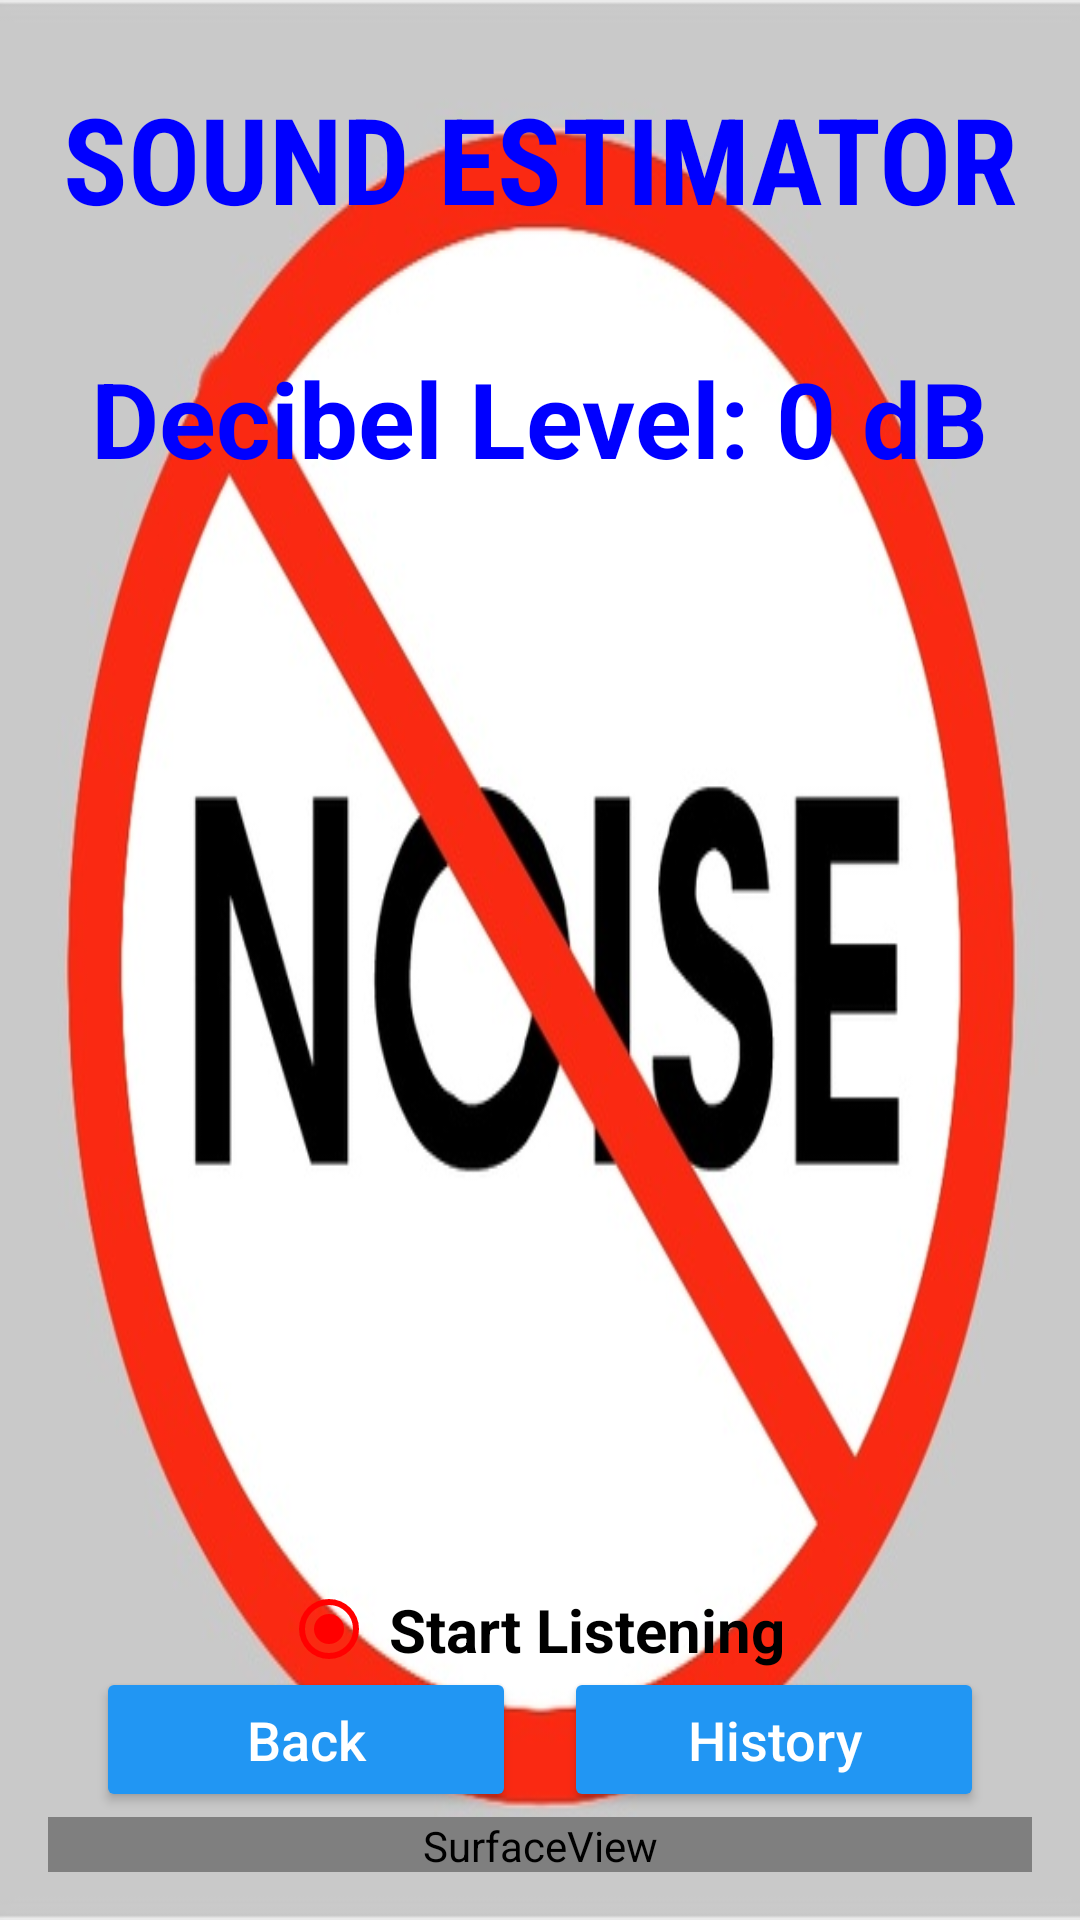

Icon click points for this 1080 × 1920 phone screenshot, format (x=x, y=y):
record: (x=332, y=1626)
